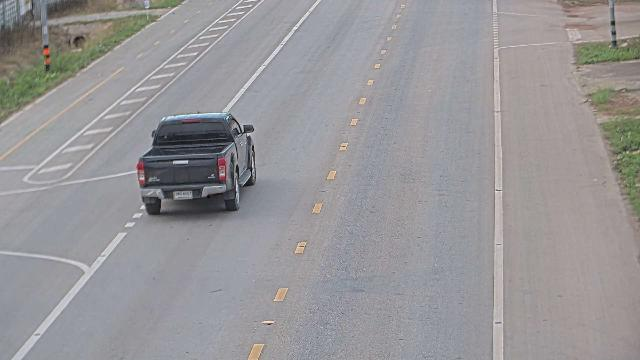pickup-truck: (136, 111, 256, 215)
